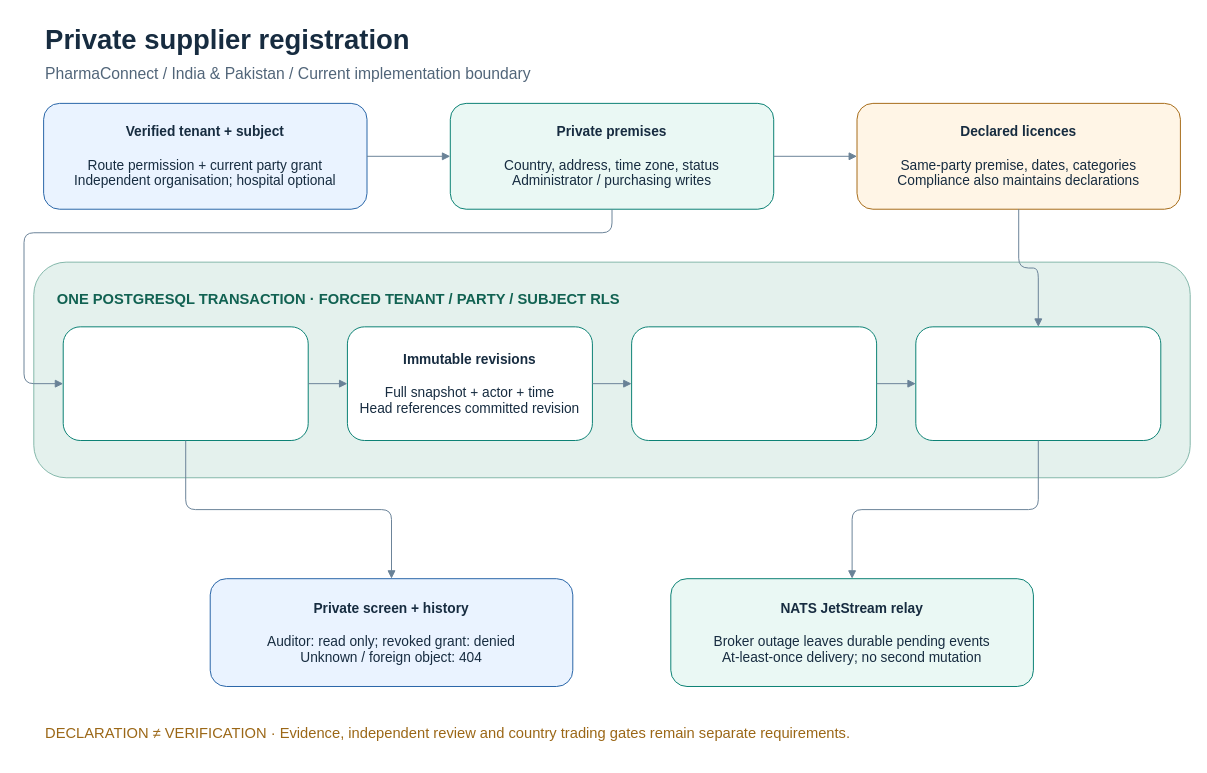
Image size: 1207x773. Some labels were removed from this diagram. The shapes that lost their labels are listed below. From the top down, each one's centre as x and y in pixels, then its label:
the point at 185,383: Guarded head UUIDv7 + expected version Exact replay returns saved result
the point at 754,383: Append-only audit Resource IDs + changed fields No sensitive payload in logs
the point at 1038,383: Transactional outbox Opaque references + version Commit with the business write
